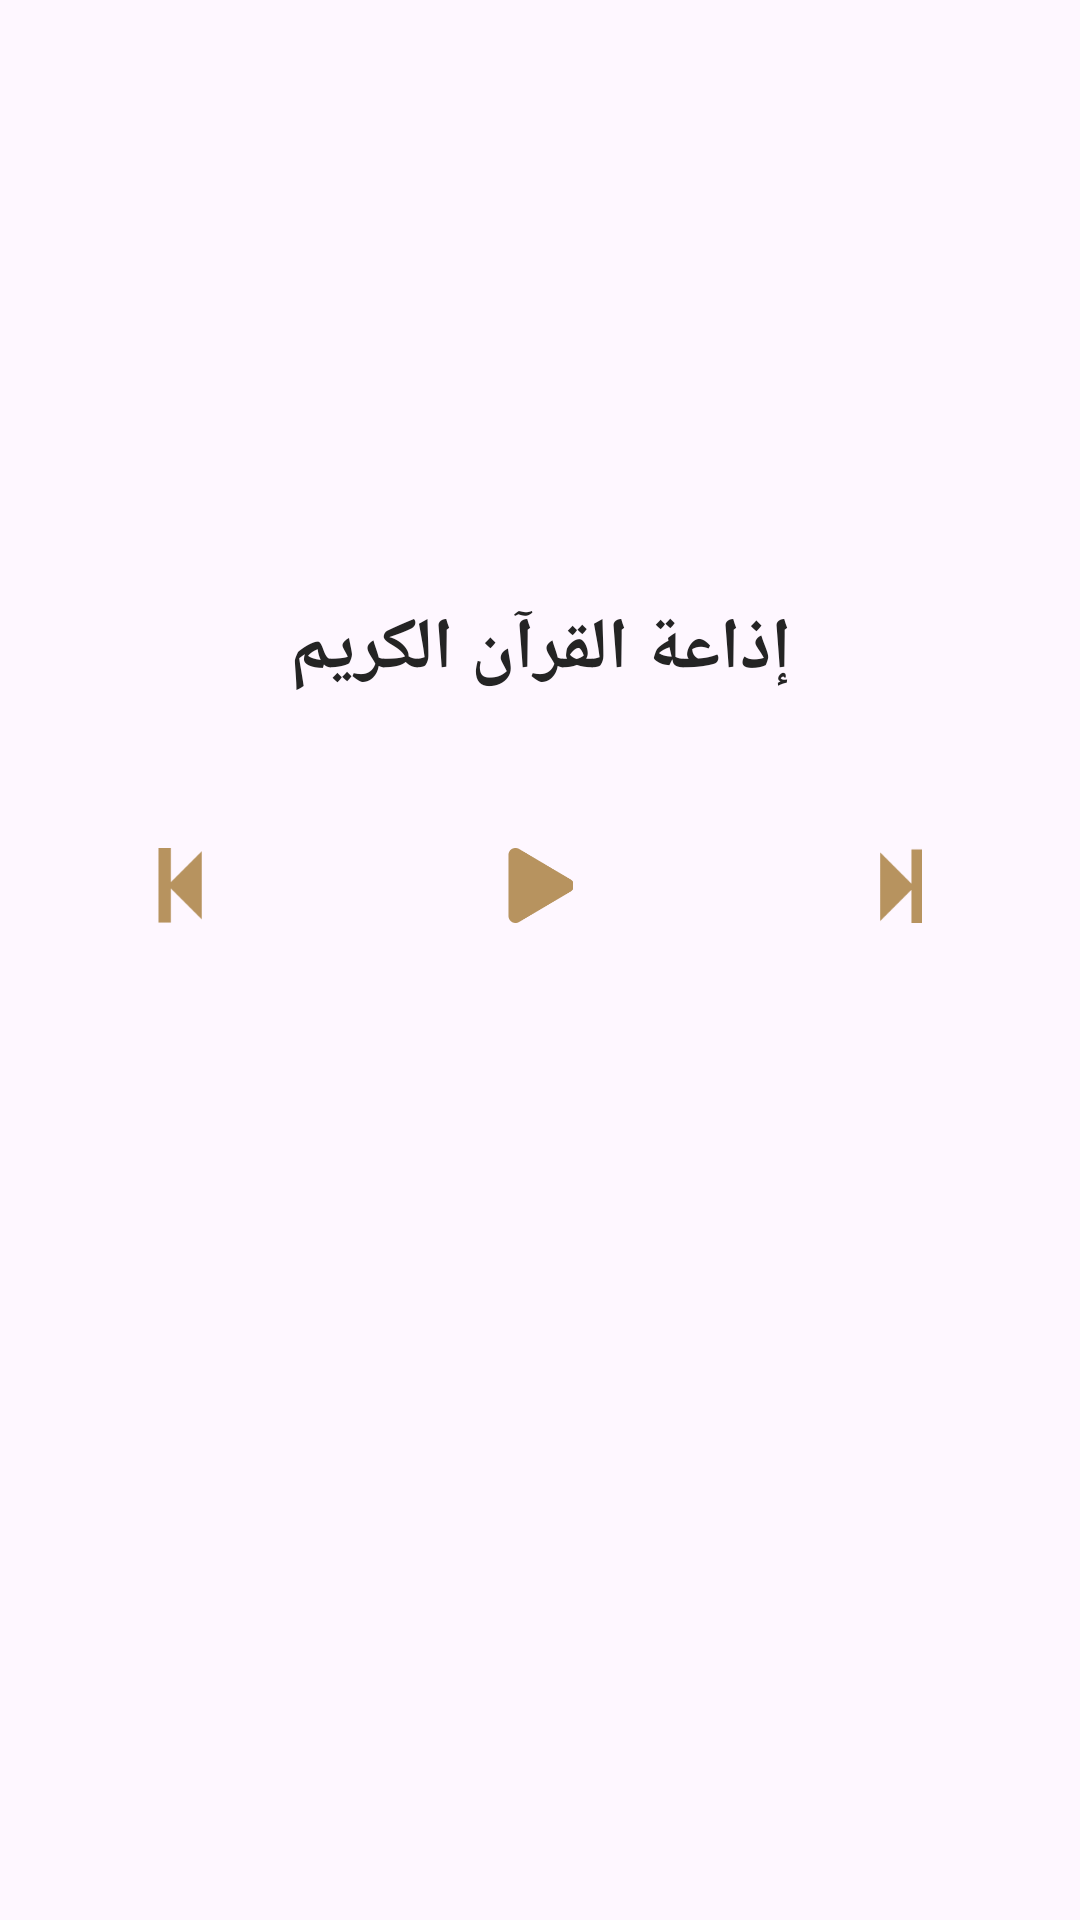

Screen size 1080x1920. Icon name, then its center in pixels as [x,y]:
back: [180,885]
next: [901,886]
play: [540,885]
